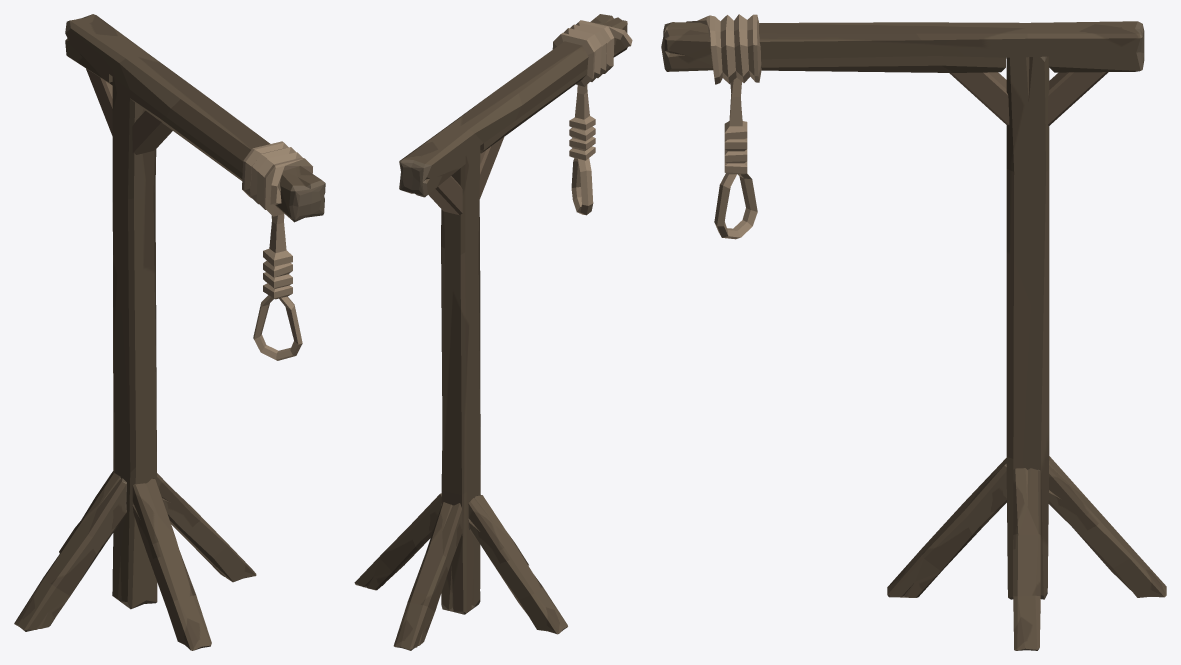
File: prop_gallows.gltf
3 renders of one model, left to right at view 1: azimuth 30°, elevation 25°; view 2: azimuth 150°, elevation 25°; view 3: azimuth 270°, elevation 25°, orthographic. The views are drawn at different scales.
Parts seen in each view (by area): view 1: prop_gallows; view 2: prop_gallows; view 3: prop_gallows.
Boxes of the visible parts, bbox=[...] form: prop_gallows: bbox=[14, 14, 325, 650]; prop_gallows: bbox=[354, 14, 632, 650]; prop_gallows: bbox=[661, 14, 1166, 650].
Bounding box in the file's own units: 1.22 × 2.77 × 2.21.
Materials: 1 (1 with a texture image).
